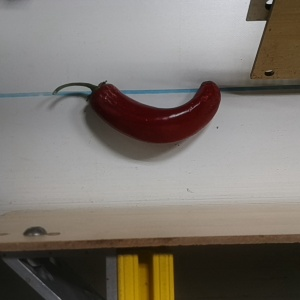Cut Point: (84, 80, 117, 111)
